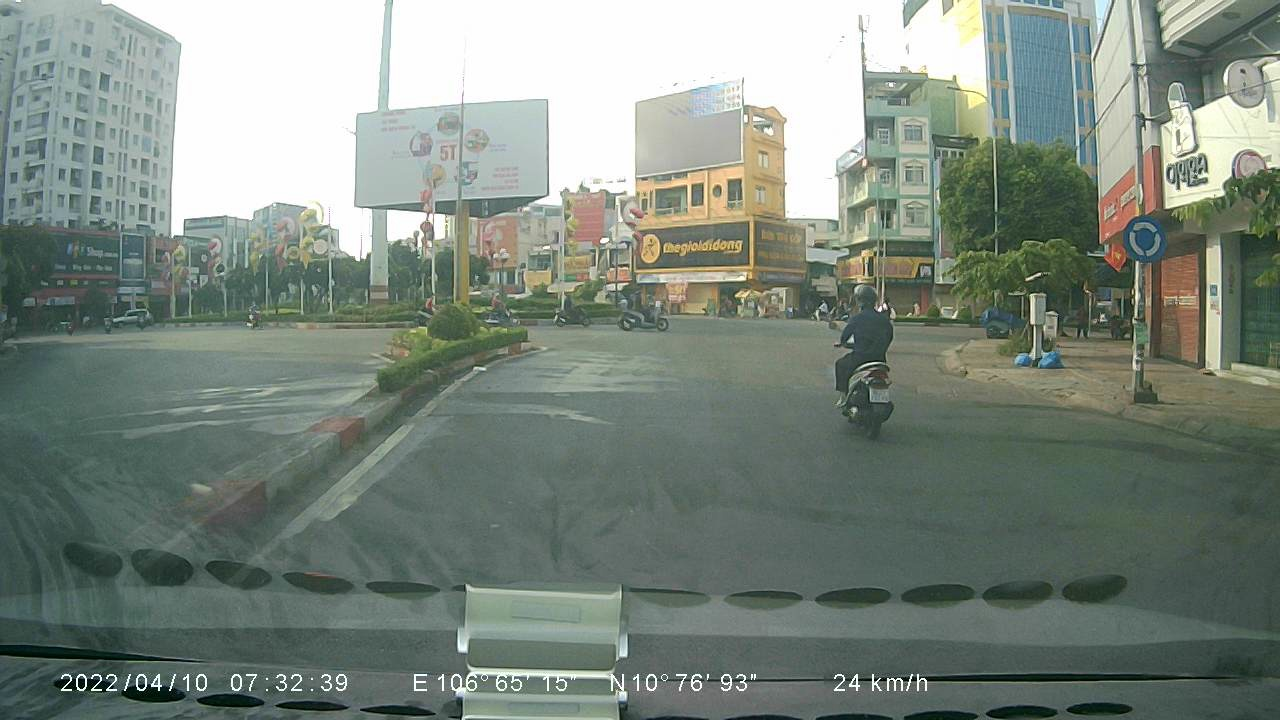Bien khac: (1120, 212, 1168, 264)
